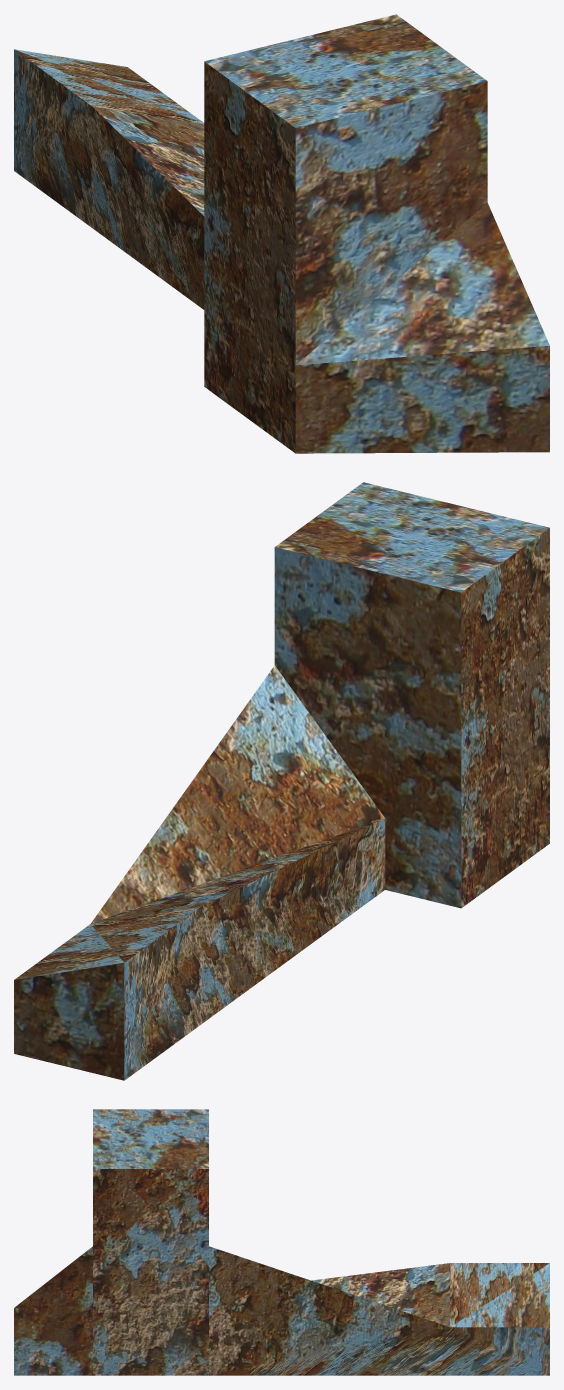
The model's file is muro2.fbx.
3 renders of one model, top to bottom at view 1: azimuth 30°, elevation 25°; view 2: azimuth 150°, elevation 25°; view 3: azimuth 270°, elevation 25°, orthographic. The views are drawn at different scales.
Parts seen in each view (by area): view 1: Model; view 2: Model; view 3: Model.
Boxes of the visible parts, x1,y1,x2,y2 form: Model: (14, 14, 549, 453); Model: (14, 482, 549, 1080); Model: (14, 1109, 549, 1375).
Bounding box in the file's own units: 1.01 × 1.63 × 3.84.
1 material, 1 textured.
